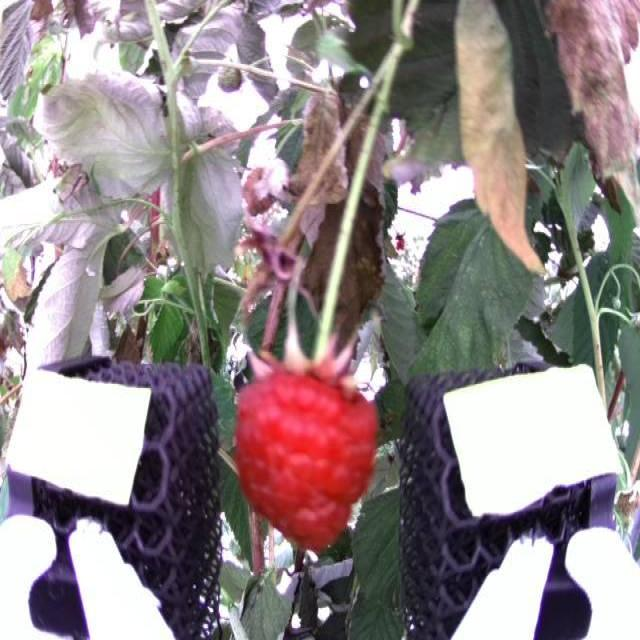Riped berries: (228, 345, 389, 548)
